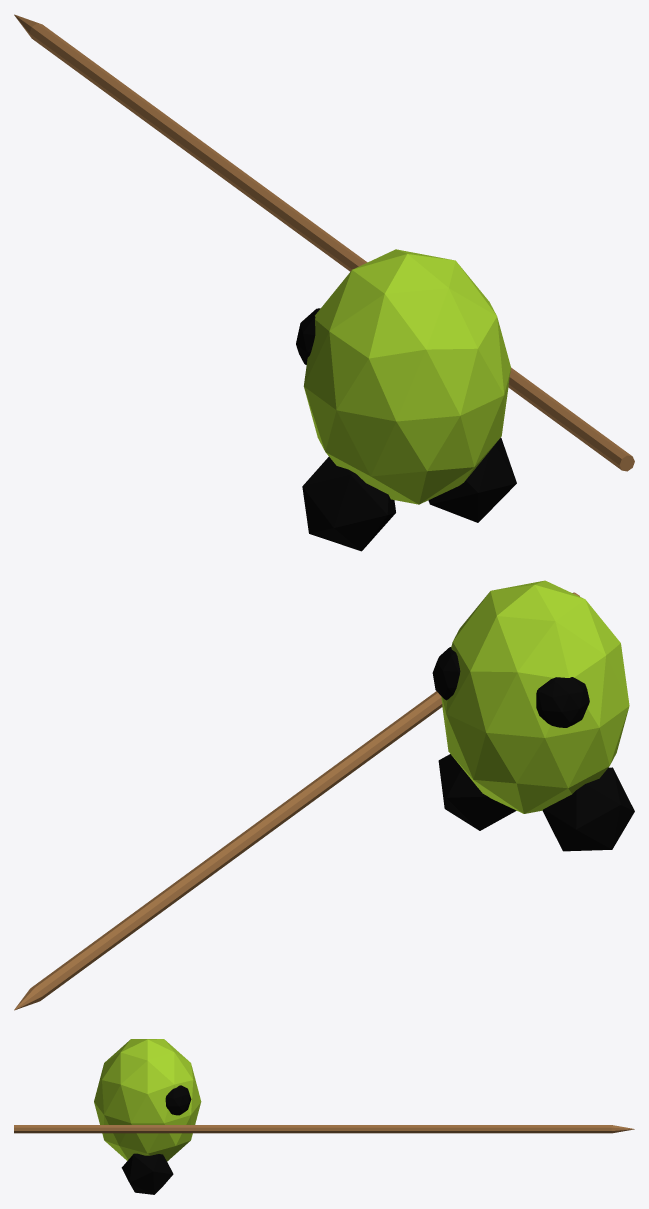
File: stab.f0014.glb
3 views of the same model, one above another, from view 1: azimuth 30°, elevation 25°; view 2: azimuth 150°, elevation 25°; view 3: azimuth 270°, elevation 25° (orthographic). The views are drawn at different scales.
Visible parts, largest first — view 1: Body.001; view 2: Body.001; view 3: Body.001.
Boxes of the visible parts, left/top/right/bottom form: Body.001: left=14, top=14, right=634, bottom=551; Body.001: left=14, top=580, right=634, bottom=1010; Body.001: left=14, top=1039, right=634, bottom=1194.
Bounding box in the file's own units: 2.17 × 2.85 × 11.56.
1 material, 1 textured.
